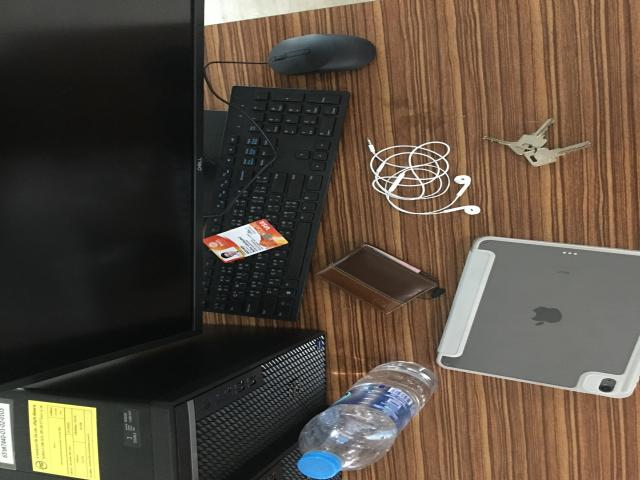Keys: (487, 119, 591, 167)
Mouse: (265, 34, 378, 76)
Wallet: (318, 245, 443, 309)
bottle: (297, 363, 437, 480)
wire: (366, 136, 481, 218)
